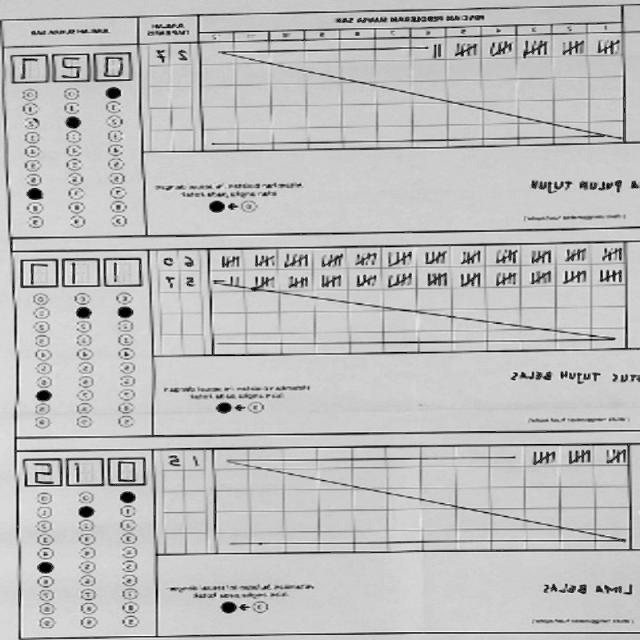Suara: (18, 254, 145, 292), (22, 453, 149, 491), (9, 48, 135, 86)
